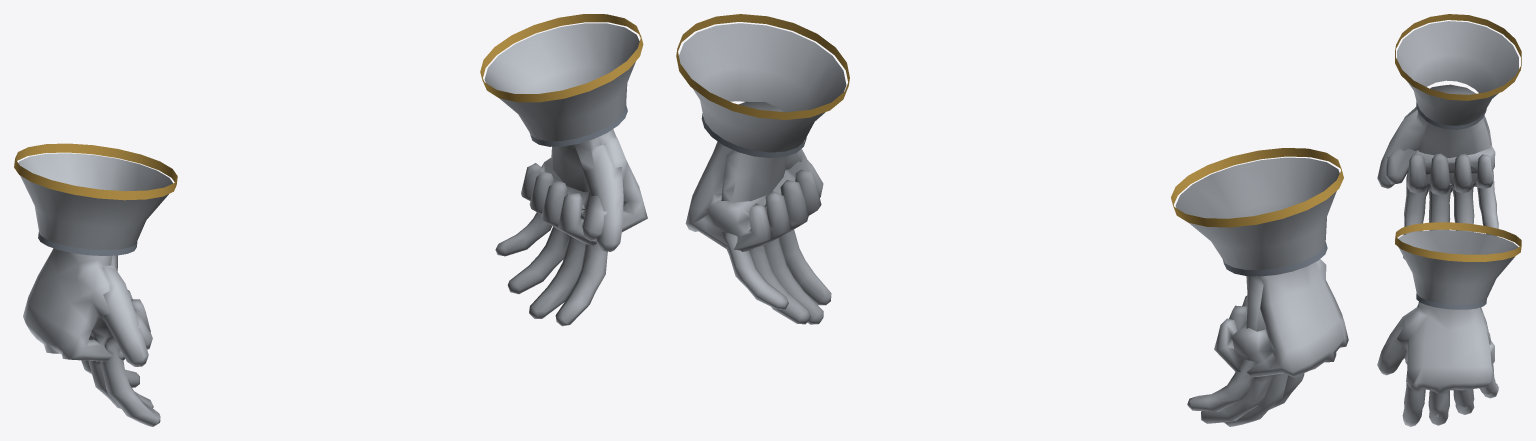
Rendered from g_royalplate_d.glb.
3 views of the same model, side by side, from view 1: azimuth 30°, elevation 25°; view 2: azimuth 150°, elevation 25°; view 3: azimuth 270°, elevation 25° (orthographic). The views are drawn at different scales.
Parts seen in each view (by area): view 1: ArmL_Gauntlet, ArmR_Gauntlet, ArmL_HandOpen, ArmR_Hand, ArmL_Hand, ArmR_HandOpen; view 2: ArmL_Gauntlet, ArmR_Gauntlet, ArmR_Hand, ArmL_HandOpen, ArmL_Hand, ArmR_HandOpen; view 3: ArmR_Gauntlet, ArmL_Gauntlet, ArmL_Hand, ArmR_HandOpen, ArmR_Hand, ArmL_HandOpen.
Boxes of the visible parts, x1,y1,x2,y2 form: ArmL_Gauntlet: [480, 14, 643, 146]; ArmR_Gauntlet: [14, 143, 177, 255]; ArmL_HandOpen: [495, 137, 623, 326]; ArmR_Hand: [23, 248, 152, 361]; ArmL_Hand: [521, 129, 647, 245]; ArmR_HandOpen: [81, 255, 160, 426]; ArmL_Gauntlet: [676, 14, 849, 157]; ArmR_Gauntlet: [1171, 148, 1343, 276]; ArmR_Hand: [1214, 259, 1348, 377]; ArmL_HandOpen: [721, 106, 831, 324]; ArmL_Hand: [685, 101, 823, 251]; ArmR_HandOpen: [1187, 276, 1304, 426]; ArmR_Gauntlet: [1395, 14, 1521, 129]; ArmL_Gauntlet: [1395, 222, 1521, 309]; ArmL_Hand: [1397, 302, 1494, 394]; ArmR_HandOpen: [1377, 109, 1498, 259]; ArmR_Hand: [1385, 84, 1495, 195]; ArmL_HandOpen: [1377, 302, 1498, 426].
Size of the model in its own units: 0.7069 by 0.2915 by 0.1792.
